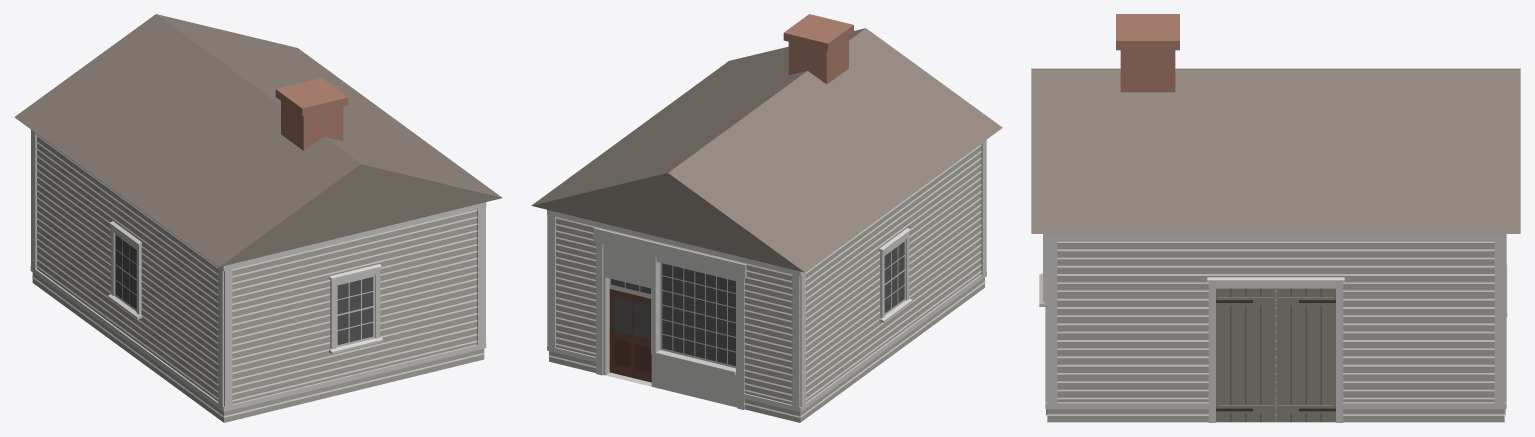
The model's file is recon_1835_core_c1_035__inferred_1835.glb.
3 renders of one model, left to right at view 1: azimuth 30°, elevation 25°; view 2: azimuth 150°, elevation 25°; view 3: azimuth 270°, elevation 25°, orthographic. The views are drawn at different scales.
Visible parts, largest first — view 1: recon_1835_core_c1_035__inferred_1835; view 2: recon_1835_core_c1_035__inferred_1835; view 3: recon_1835_core_c1_035__inferred_1835.
Boxes of the visible parts, bbox=[...] form: recon_1835_core_c1_035__inferred_1835: bbox=[14, 14, 502, 422]; recon_1835_core_c1_035__inferred_1835: bbox=[531, 14, 1002, 422]; recon_1835_core_c1_035__inferred_1835: bbox=[1031, 14, 1520, 422].
Bounding box in the file's own units: 6.02 × 5.42 × 7.54.
